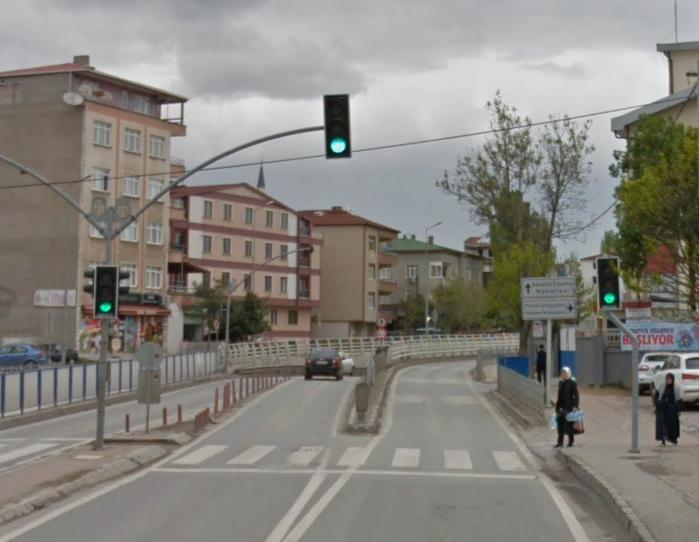greenlight: (322, 94, 352, 164), (596, 257, 622, 308), (98, 267, 117, 316)
